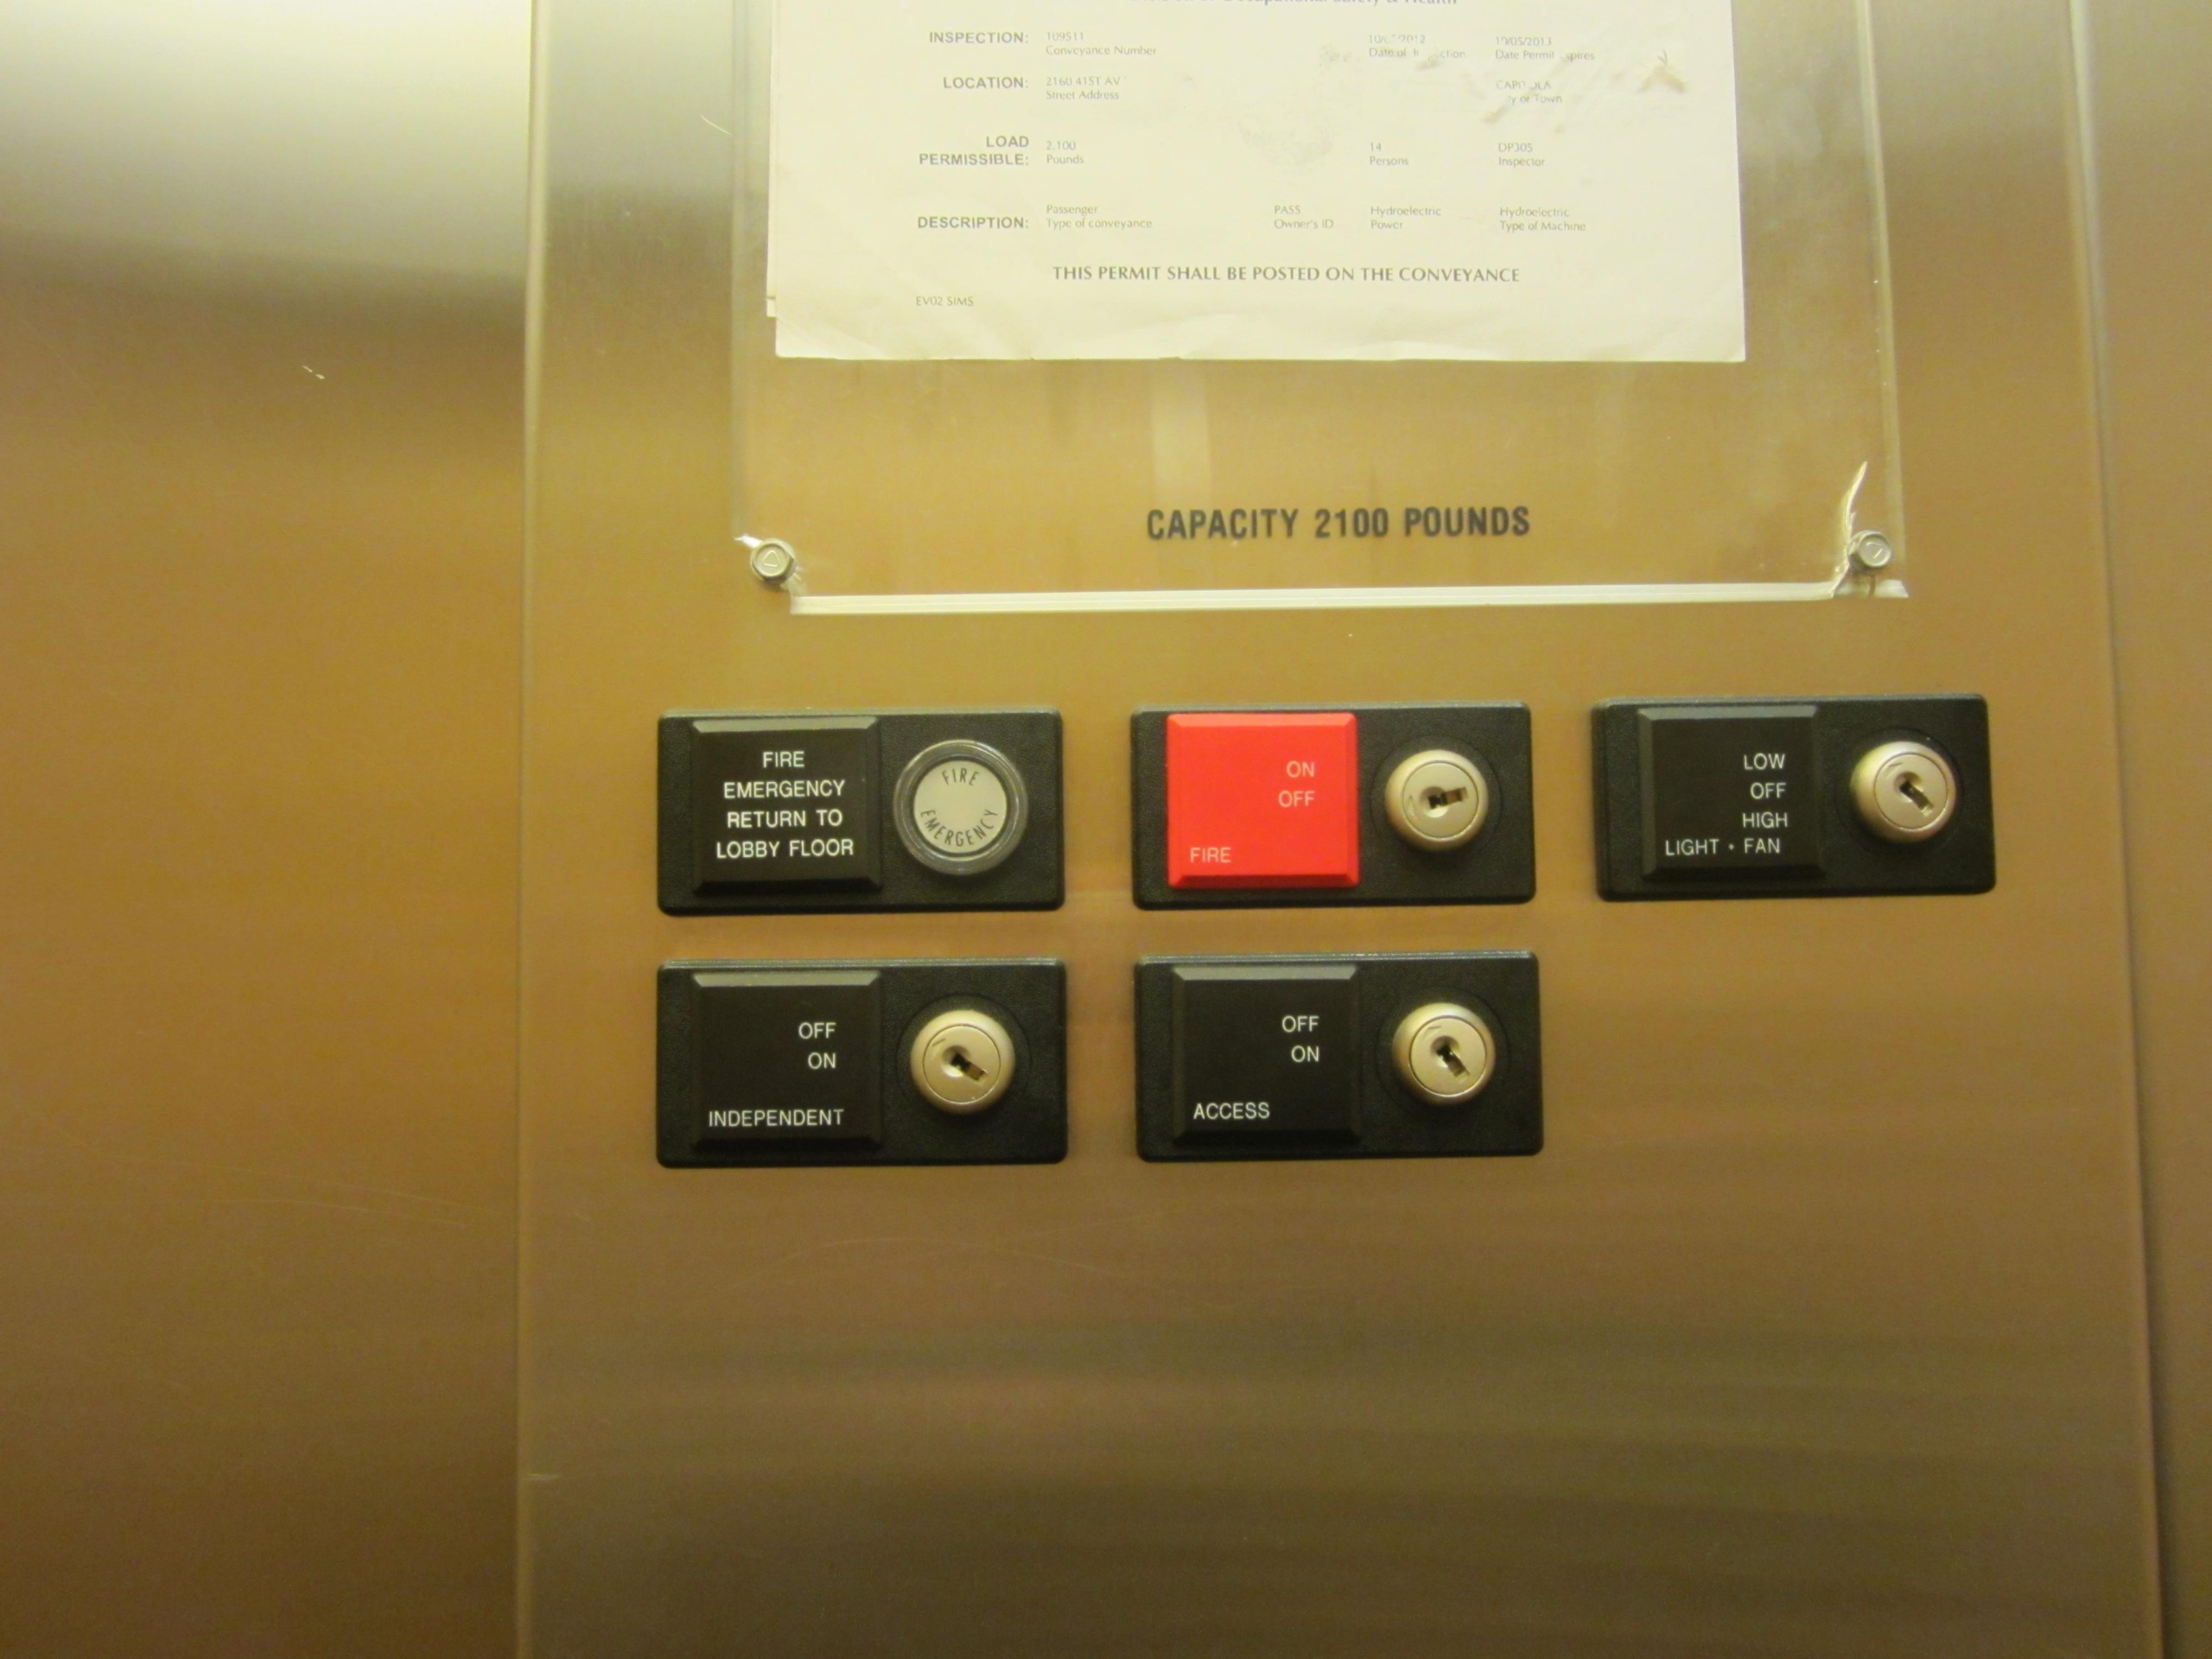bt_keyhole: (1578, 687, 2008, 908), (1123, 945, 1550, 1168), (1120, 695, 1543, 918), (646, 953, 1071, 1171)
text: (646, 704, 1073, 925)
